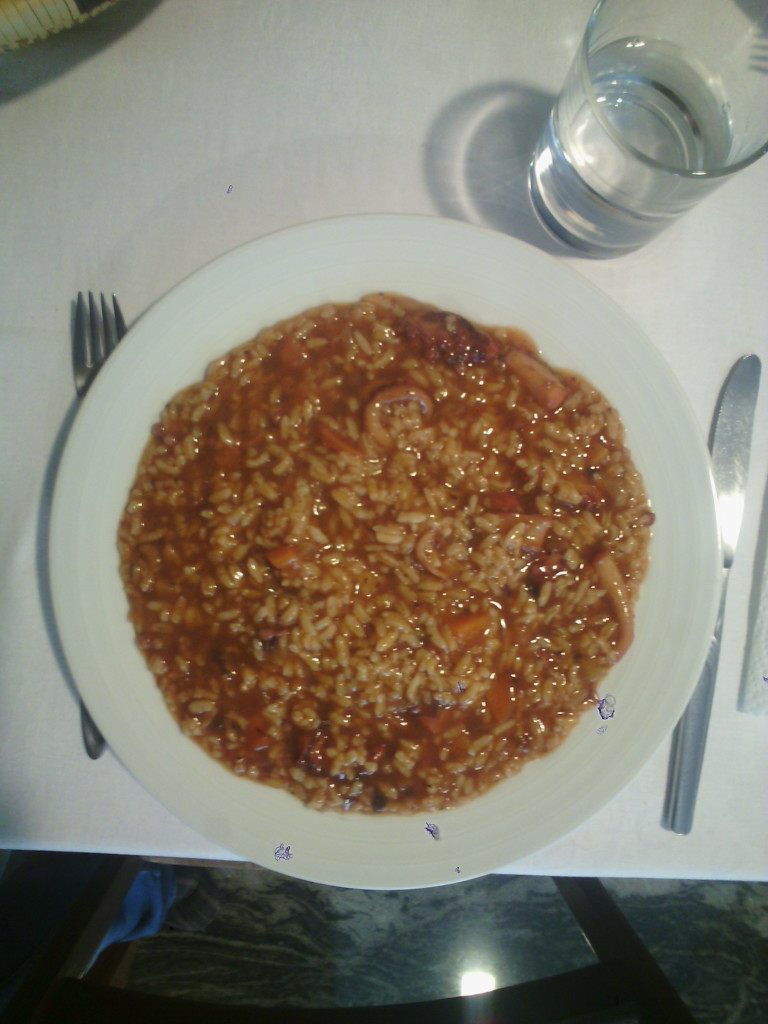81-100: (53, 208, 724, 890)
